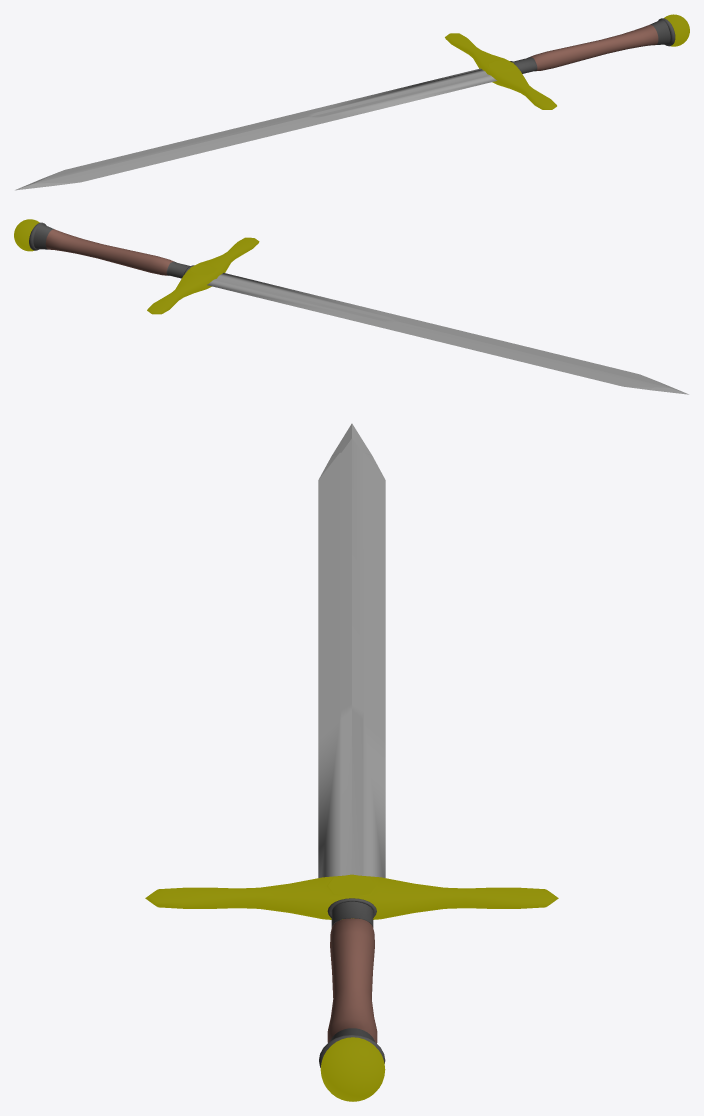
The model's file is Sword.fbx.
The picture shows the model from 3 angles, top to bottom: view 1: azimuth 30°, elevation 25°; view 2: azimuth 150°, elevation 25°; view 3: azimuth 270°, elevation 25°; orthographic projection. The views are drawn at different scales.
Parts seen in each view (by area): view 1: sword2:polySurface1; view 2: sword2:polySurface1; view 3: sword2:polySurface1.
Part boxes in pixels (box(x1,y1,x2,y2)): sword2:polySurface1: box(15, 14, 689, 190); sword2:polySurface1: box(14, 219, 688, 394); sword2:polySurface1: box(145, 423, 558, 1101).
Size of the model in its own units: 78.75 by 3.27 by 20.95.
